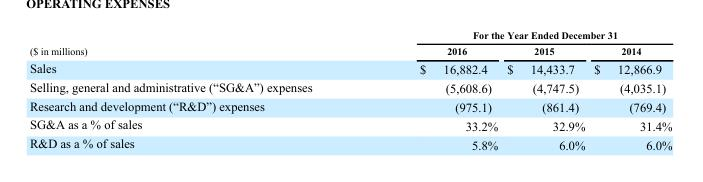table: (28, 28, 671, 151)
table column: (28, 28, 365, 151), (365, 28, 501, 151), (501, 28, 588, 151), (588, 28, 671, 151)
table column header: (28, 28, 671, 58)
table row: (28, 58, 671, 77), (28, 77, 671, 96), (28, 96, 671, 115), (28, 115, 671, 134), (28, 134, 671, 151), (28, 42, 671, 58), (28, 28, 671, 42)
table spanning cell: (28, 28, 365, 58), (365, 28, 671, 42)
